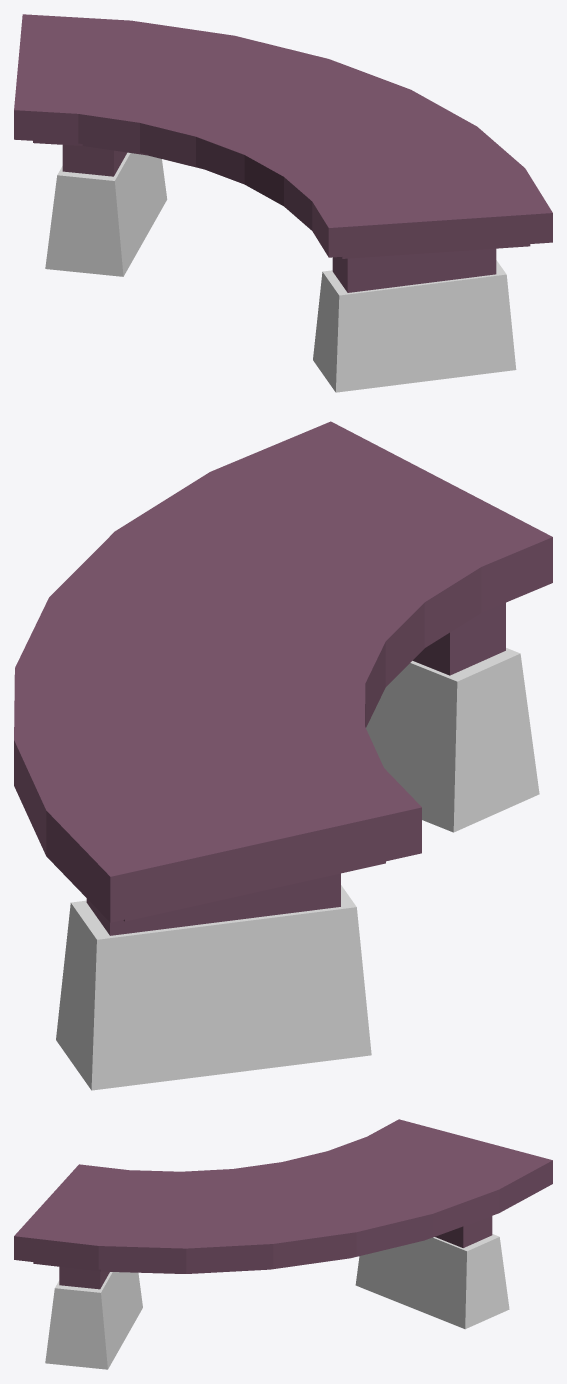
Rendered from BenchSmallCurved.fbx.
3 renders of one model, top to bottom at view 1: azimuth 30°, elevation 25°; view 2: azimuth 150°, elevation 25°; view 3: azimuth 270°, elevation 25°, orthographic. The views are drawn at different scales.
Parts seen in each view (by area): view 1: BenchSmallCurved; view 2: BenchSmallCurved; view 3: BenchSmallCurved.
Boxes of the visible parts, x1=… form: BenchSmallCurved: x1=14, y1=14, x2=552, y2=392; BenchSmallCurved: x1=14, y1=421, x2=552, y2=1090; BenchSmallCurved: x1=14, y1=1119, x2=552, y2=1369.
Bounding box in the file's own units: 1.01 × 0.4863 × 1.77.
